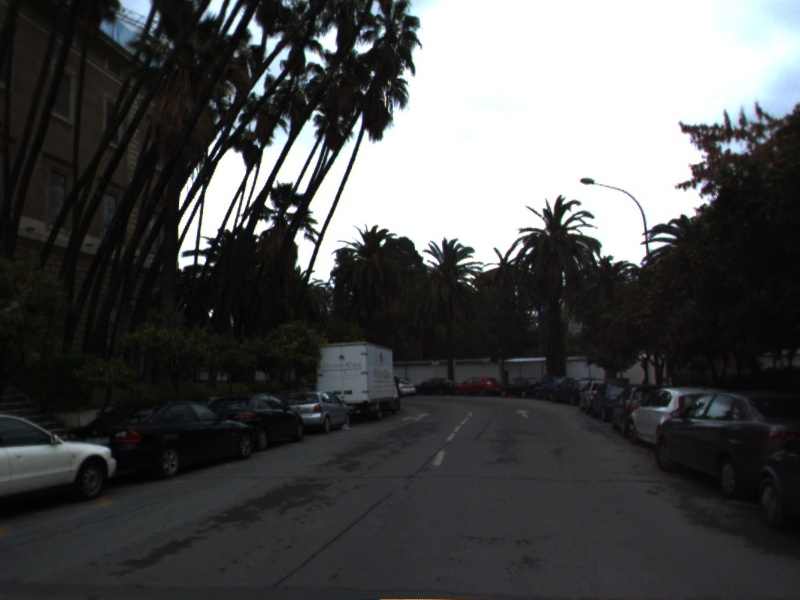STRAIGHT: (513, 407, 533, 420)
STRAIGHT_LEFT: (400, 410, 432, 423)
